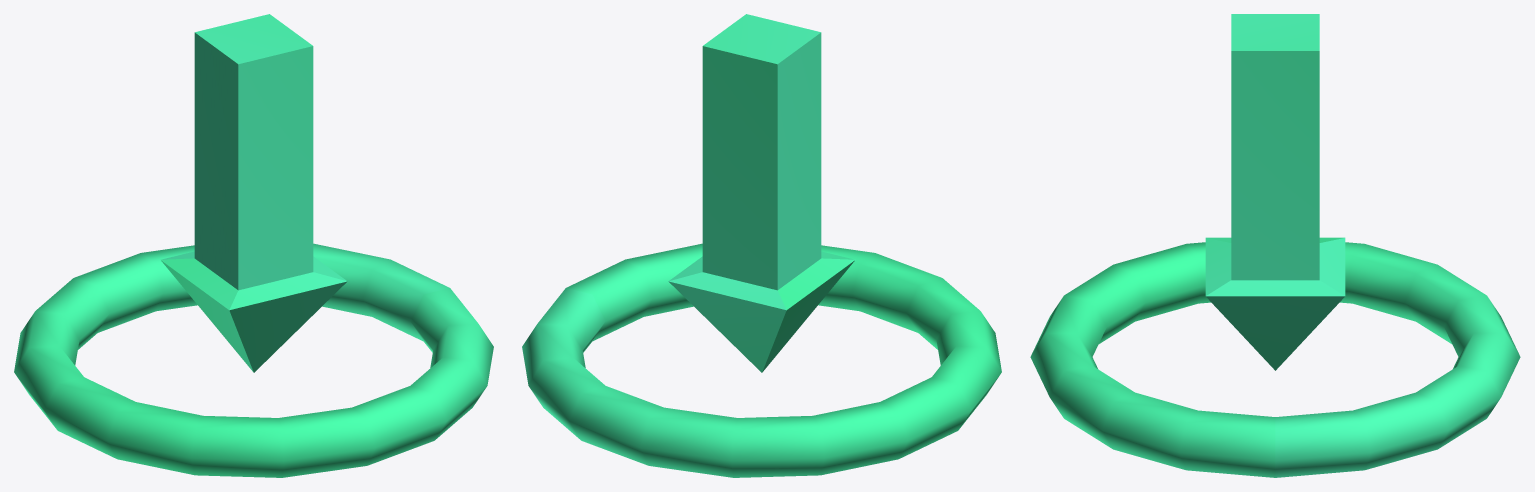
Rendered from waypoint_model.FBX.
3 views of the same model, side by side, from view 1: azimuth 30°, elevation 25°; view 2: azimuth 150°, elevation 25°; view 3: azimuth 270°, elevation 25° (orthographic).
Visible parts, largest first — view 1: Circle01; view 2: Circle01; view 3: Circle01.
Part boxes in pixels (box(x1,y1,x2,y2)): Circle01: box(14, 14, 493, 477); Circle01: box(522, 14, 1001, 477); Circle01: box(1030, 14, 1520, 477).
Size of the model in its own units: 28.32 by 22.22 by 28.32.
